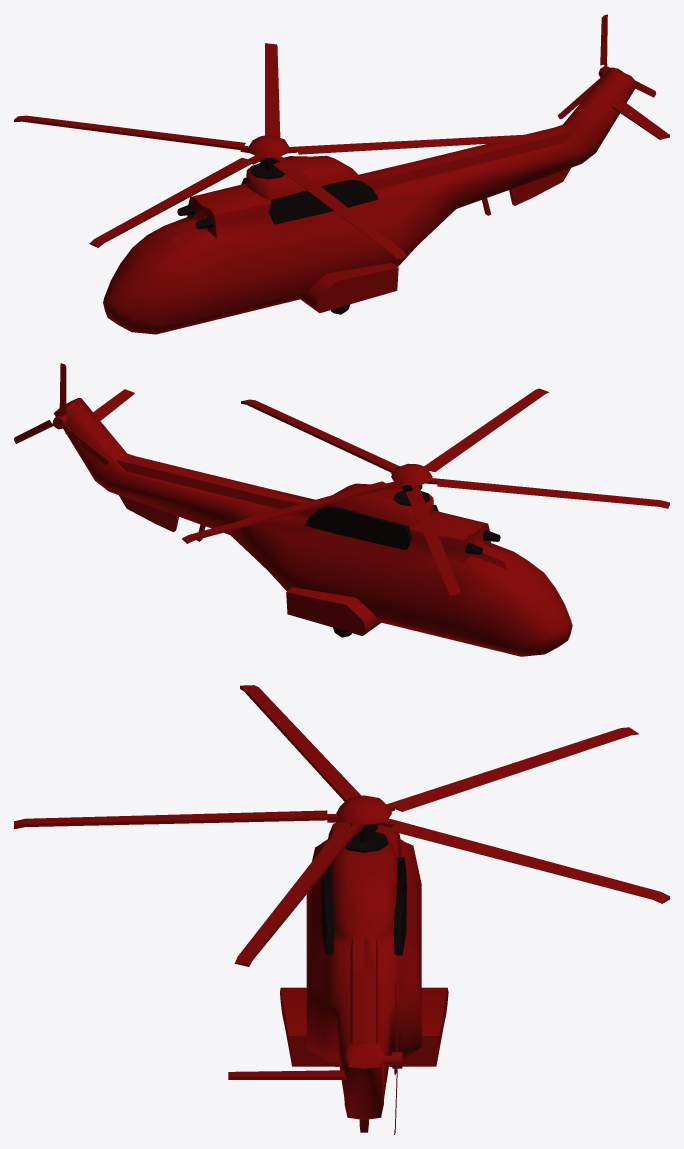
File: Airbus_225_Yup.FBX
3 renders of one model, top to bottom at view 1: azimuth 30°, elevation 25°; view 2: azimuth 150°, elevation 25°; view 3: azimuth 270°, elevation 25°, orthographic. The views are drawn at different scales.
Parts seen in each view (by area): view 1: airbus 225, airbus blades top, airbus blades back; view 2: airbus 225, airbus blades top, airbus blades back; view 3: airbus 225, airbus blades top.
Part boxes in pixels (bbox=[...]): airbus 225: bbox=[103, 67, 669, 334]; airbus blades top: bbox=[14, 43, 535, 259]; airbus blades back: bbox=[557, 14, 656, 119]; airbus 225: bbox=[53, 389, 572, 656]; airbus blades top: bbox=[182, 388, 669, 595]; airbus blades back: bbox=[14, 363, 109, 464]; airbus 225: bbox=[228, 795, 448, 1132]; airbus blades top: bbox=[14, 685, 669, 966].
Bounding box in the file's own units: 1318 × 401 × 929.
